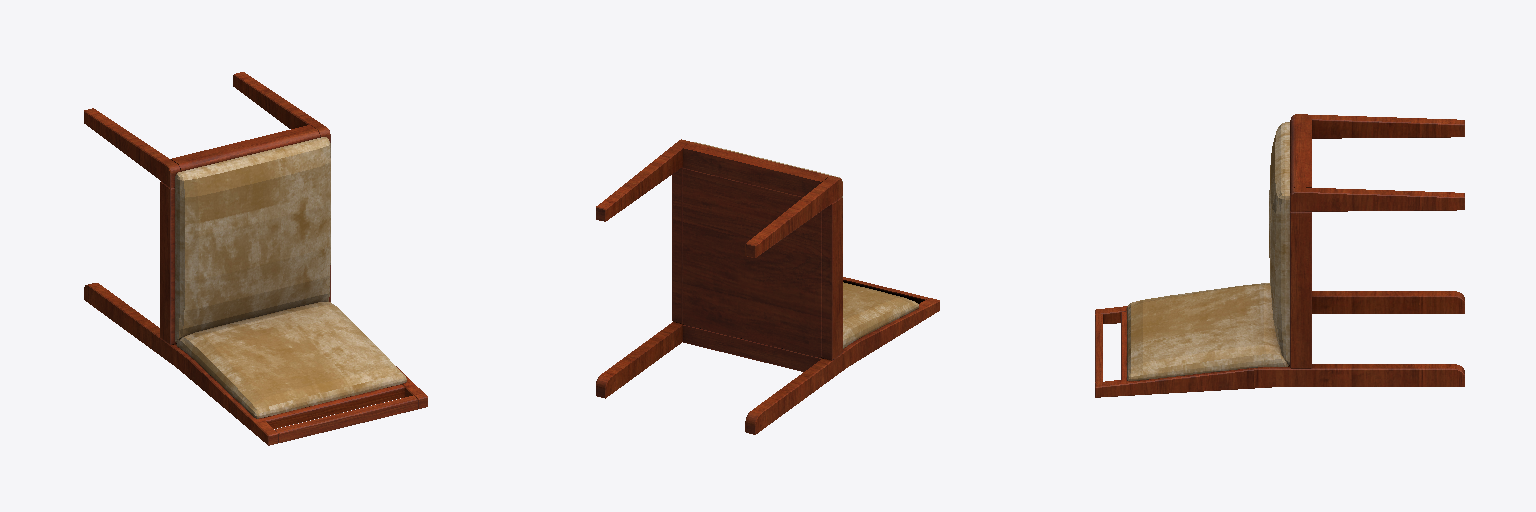
3 views of the same model, side by side, from view 1: azimuth 30°, elevation 25°; view 2: azimuth 150°, elevation 25°; view 3: azimuth 270°, elevation 25° (orthographic).
Bounding box in the file's own units: 0.45 × 0.5526 × 0.9.
Materials: 1 (1 with a texture image).